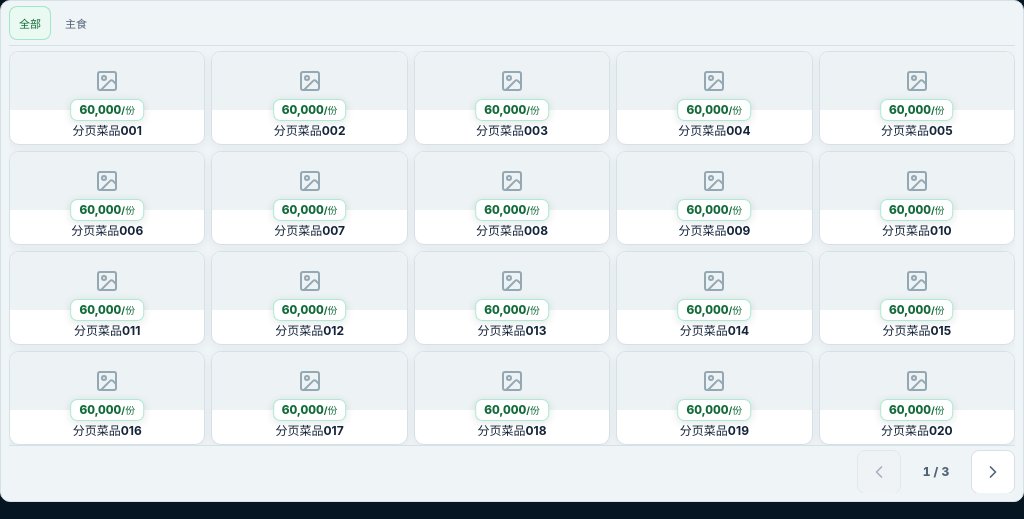
Test: TableOrderingWorkspace shared-controller UI › renders only the active 20-item desktop page without issuing catalog requests on page turns
Check: the footer with test id "table-ordering-pagination" reads "1 / 3", box x1=923 y1=464 x2=949 y2=479
Check: the text "分页菜品021" is not shown
Click the button with test id "ordering-next-page": (993, 472) x1=971 y1=450 x2=1015 y2=494
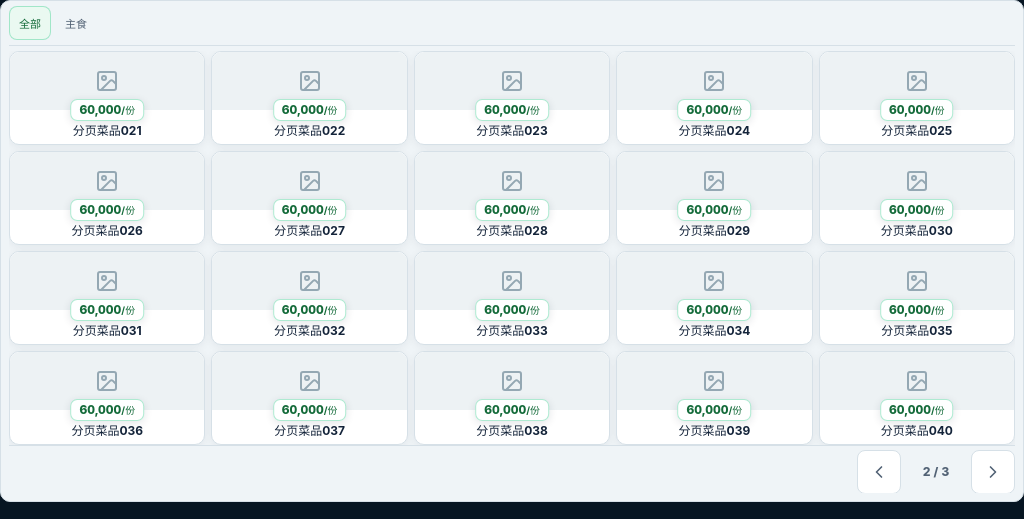
Check: the footer with test id "table-ordering-pagination" reads "2 / 3", box x1=923 y1=464 x2=949 y2=479
Check: the text "分页菜品021" is shown, box x1=73 y1=123 x2=142 y2=138
Check: the text "分页菜品001" is gone
Click the button with test id "ordering-next-page": (993, 472) x1=971 y1=450 x2=1015 y2=494
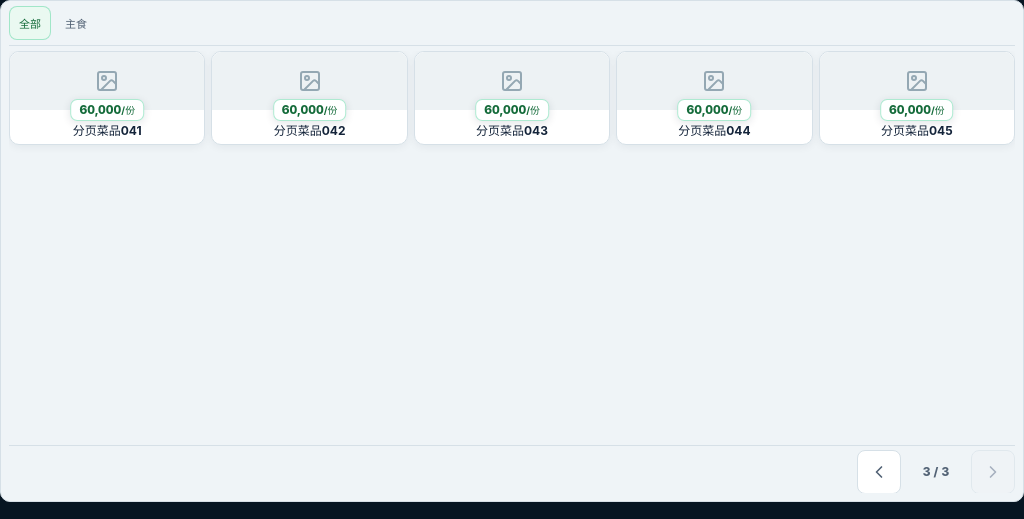
Check: the number of buttons with class "table-ordering-product" is 5, box x1=9 y1=51 x2=205 y2=145; x1=211 y1=51 x2=408 y2=145; x1=414 y1=51 x2=610 y2=145; x1=616 y1=51 x2=813 y2=145; x1=819 y1=51 x2=1015 y2=145
